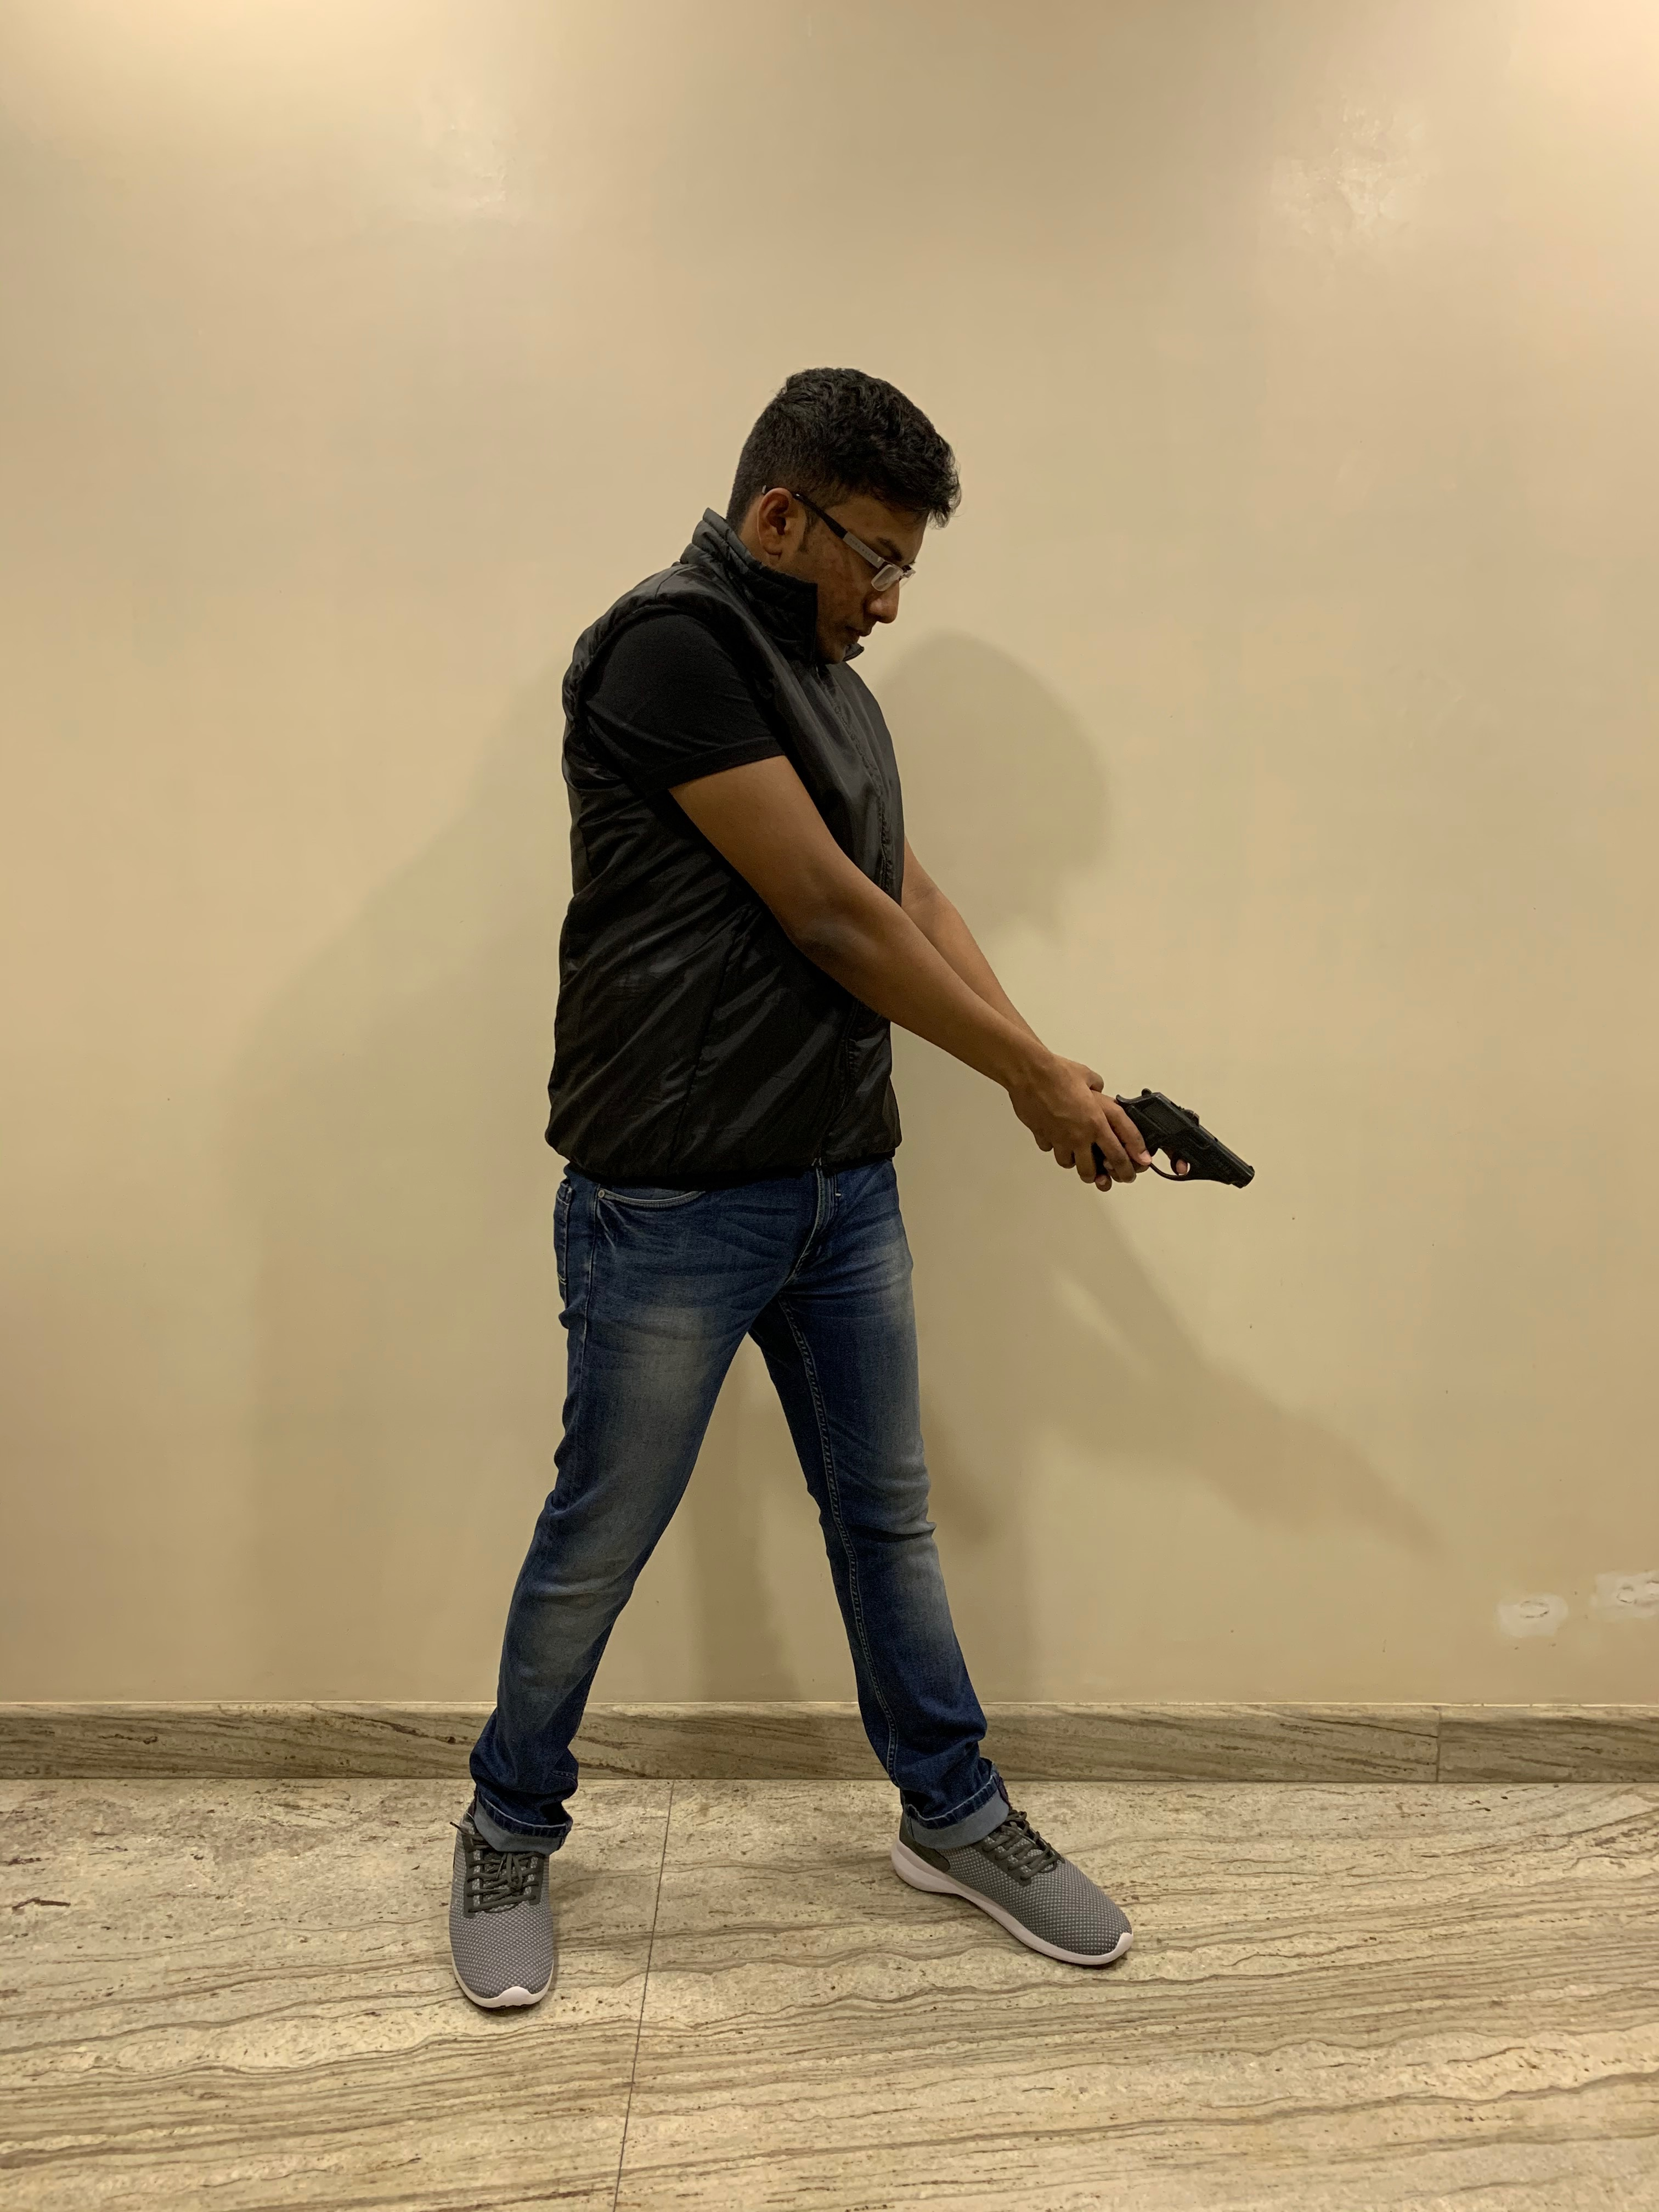gun: (1080, 1085, 1262, 1198)
